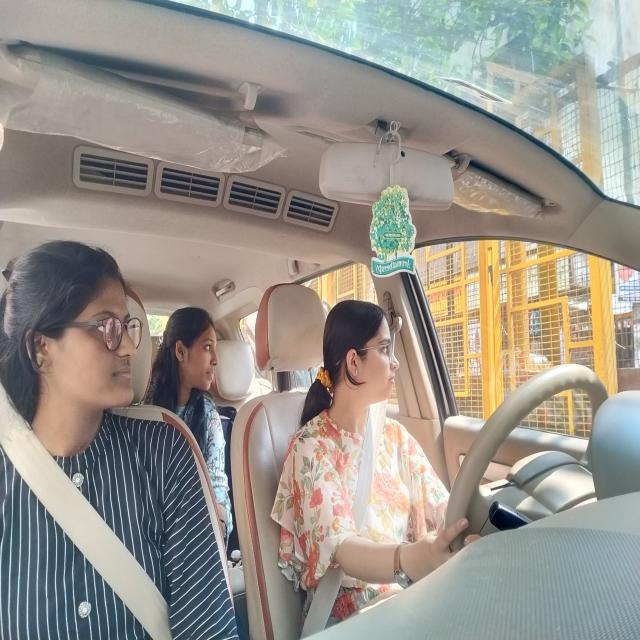LeftRight: (315, 276, 408, 442)
person: (2, 222, 154, 478), (158, 290, 231, 413)
